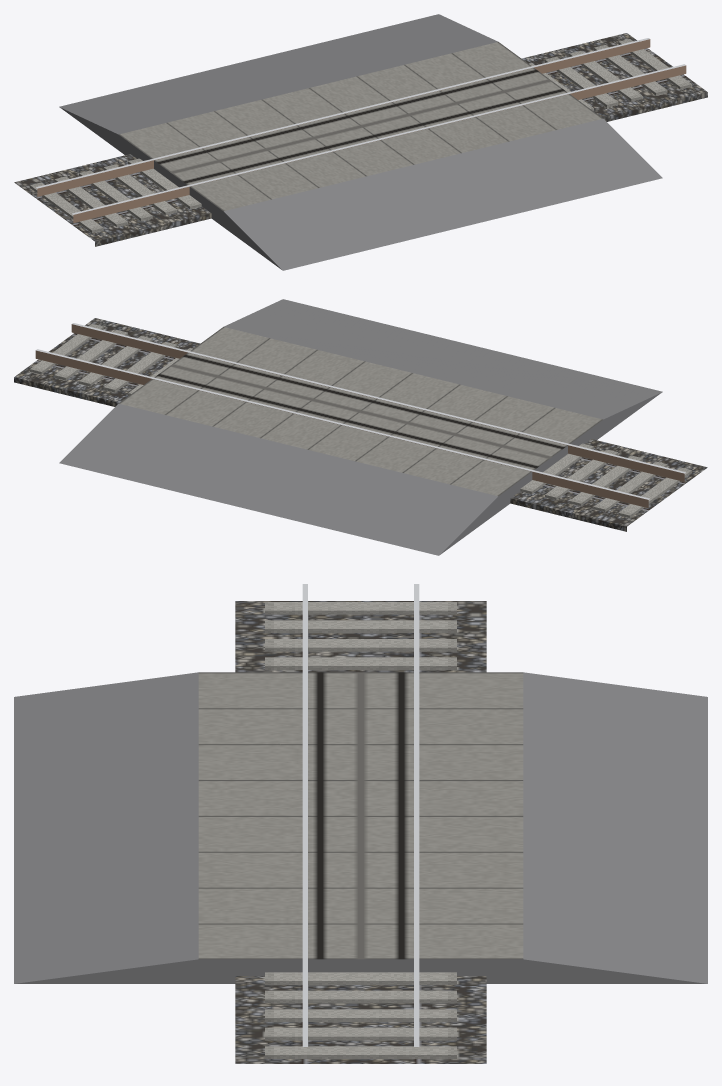
The model's file is kolej_prejezd_beton.glb.
3 renders of one model, top to bottom at view 1: azimuth 30°, elevation 25°; view 2: azimuth 150°, elevation 25°; view 3: azimuth 270°, elevation 25°, orthographic. The views are drawn at different scales.
Parts seen in each view (by area): view 1: kolej_prejezd_beton; view 2: kolej_prejezd_beton; view 3: kolej_prejezd_beton.
Part boxes in pixels (x1,y1,x2,y2): kolej_prejezd_beton: [14, 14, 707, 270]; kolej_prejezd_beton: [14, 299, 707, 555]; kolej_prejezd_beton: [14, 584, 707, 1063].
Size of the model in its own units: 14.84 by 0.373 by 9.4.
6 materials, 3 textured.
